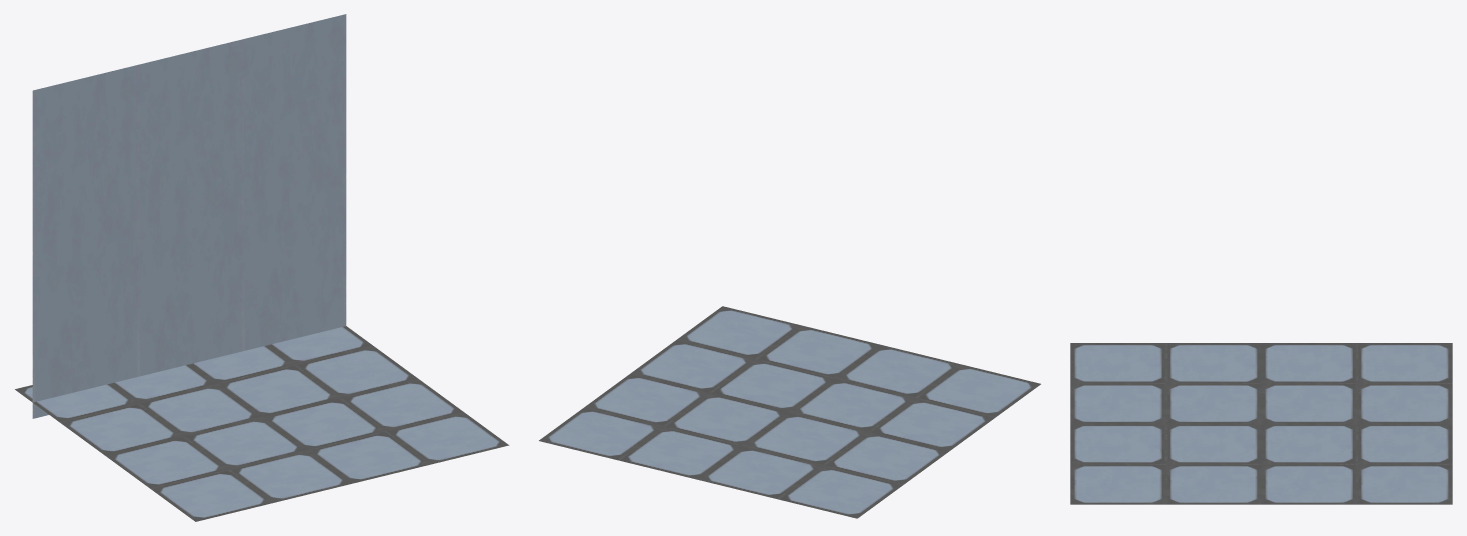
The model's file is Room_MTN_Corner_2.glb.
3 views of the same model, side by side, from view 1: azimuth 30°, elevation 25°; view 2: azimuth 150°, elevation 25°; view 3: azimuth 270°, elevation 25° (orthographic). The views are drawn at different scales.
Visible parts, largest first — view 1: Room_MTN_Corner_2; view 2: Room_MTN_Corner_2; view 3: Room_MTN_Corner_2.
Boxes of the visible parts, left/top/right/bottom form: Room_MTN_Corner_2: left=15, top=14, right=509, bottom=521; Room_MTN_Corner_2: left=539, top=306, right=1040, bottom=518; Room_MTN_Corner_2: left=1070, top=343, right=1452, bottom=504.
Size of the model in its own units: 4 by 4 by 4.
Materials: 2 (2 with a texture image).
